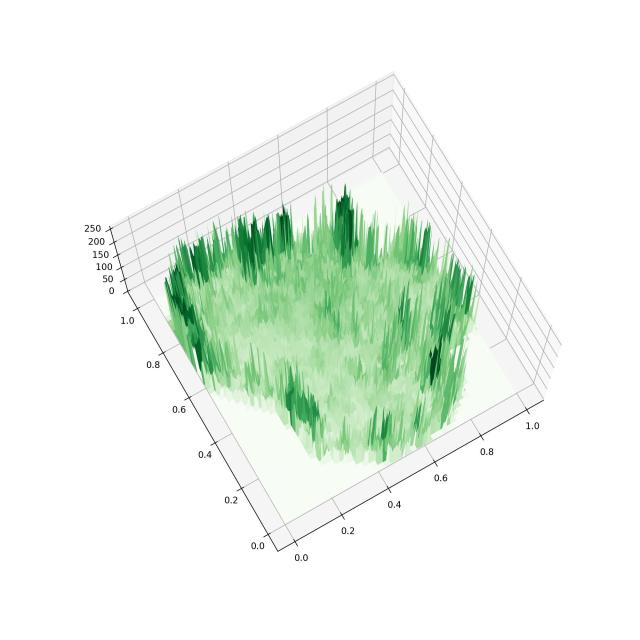fir: (64, 50, 579, 592)
